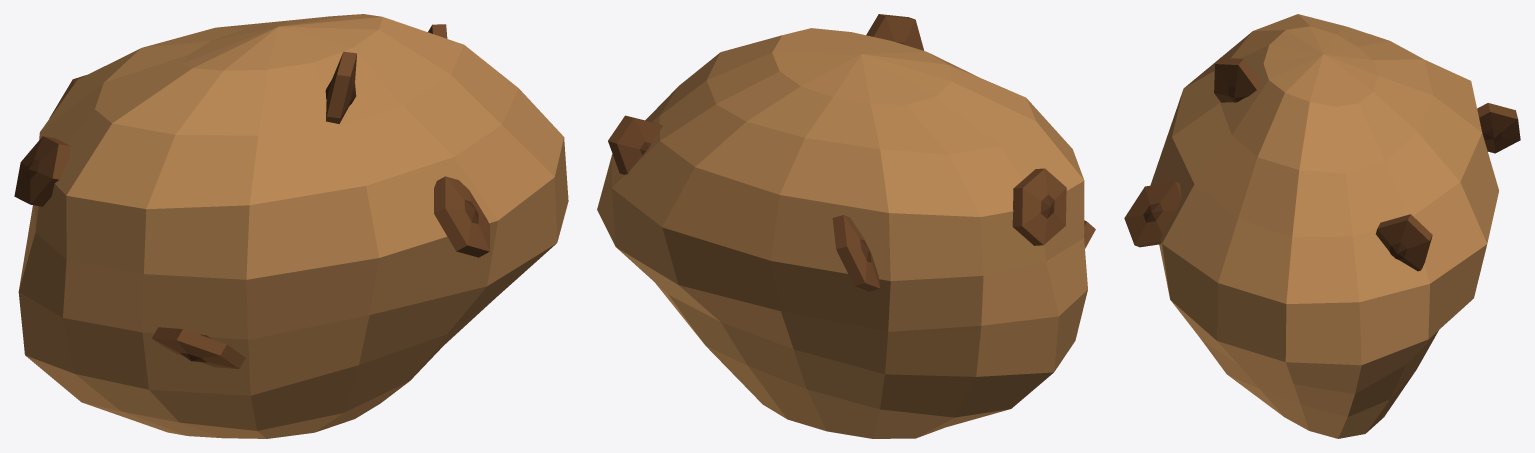
The model's file is potato.glb.
3 renders of one model, left to right at view 1: azimuth 30°, elevation 25°; view 2: azimuth 150°, elevation 25°; view 3: azimuth 270°, elevation 25°, orthographic. The views are drawn at different scales.
Visible parts, largest first — view 1: Potato; view 2: Potato; view 3: Potato.
Boxes of the visible parts, <box> form: Potato: <box>14,14,568,438</box>; Potato: <box>597,14,1095,438</box>; Potato: <box>1124,14,1520,438</box>.
Size of the model in its own units: 2.6 by 2 by 2.
